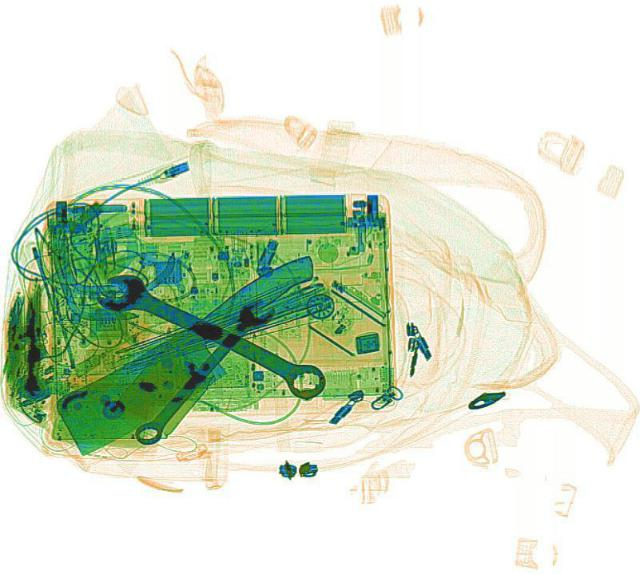Knife: (36, 250, 350, 456)
Wrench: (92, 266, 334, 406), (124, 292, 278, 449)
